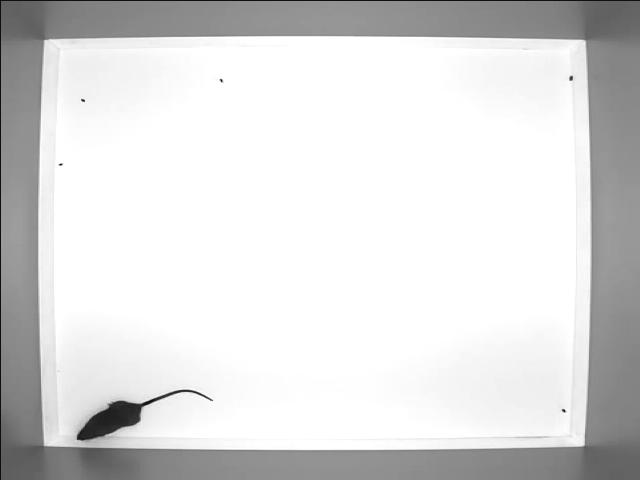Tikus: (66, 381, 220, 443)
